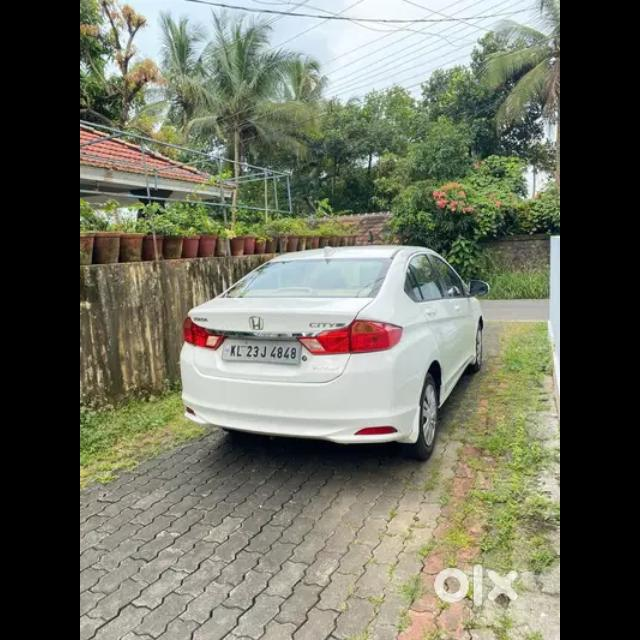vehicles: (180, 244, 480, 456)
